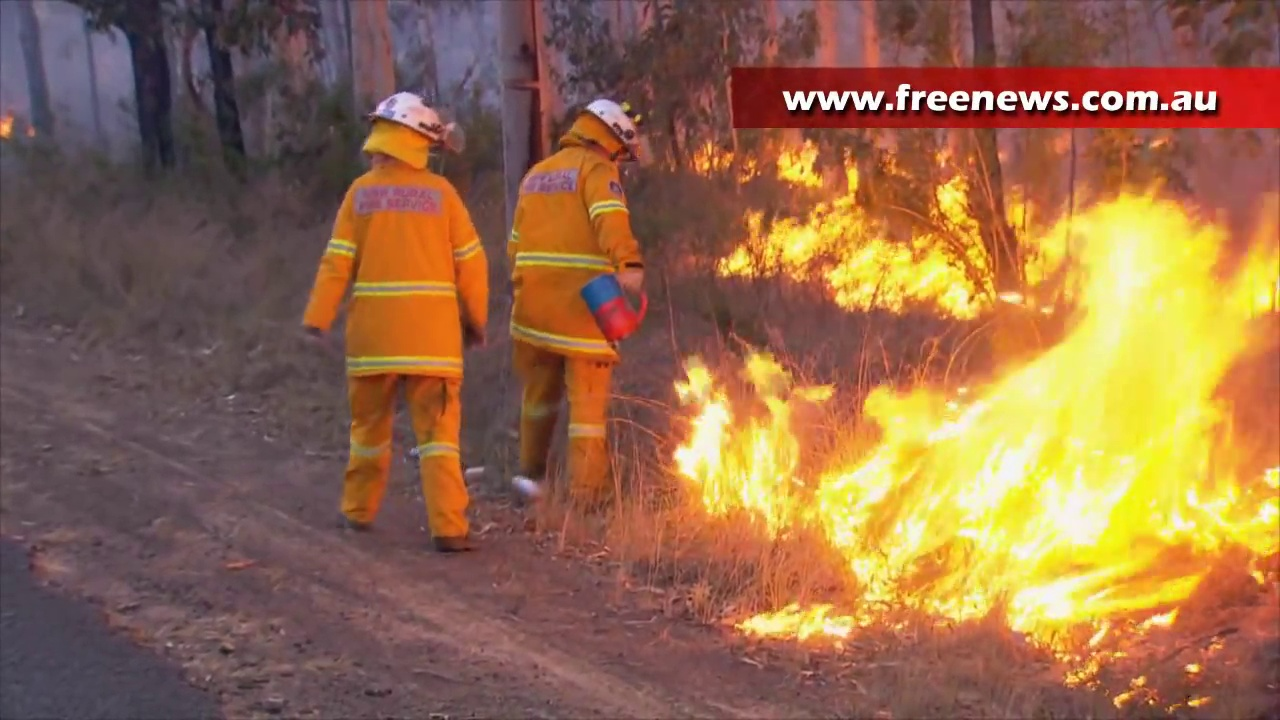fire: (814, 193, 1280, 659), (721, 177, 992, 320), (668, 342, 833, 525), (775, 145, 821, 187)
